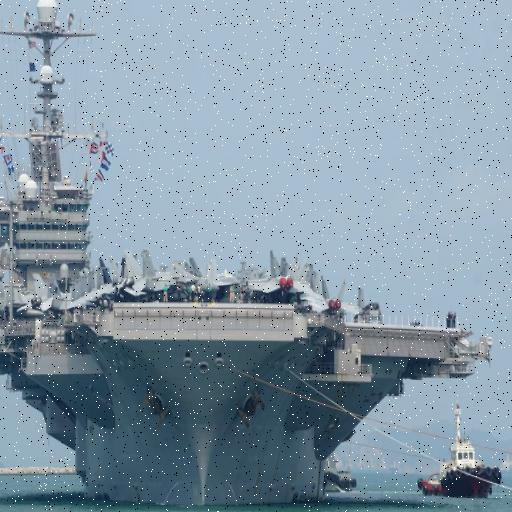Portanaves: (1, 1, 491, 512)
